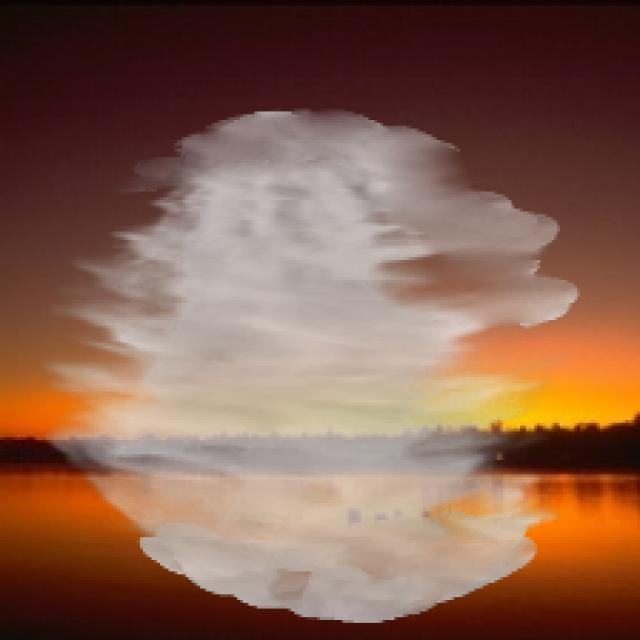smoke: (40, 108, 580, 623)
